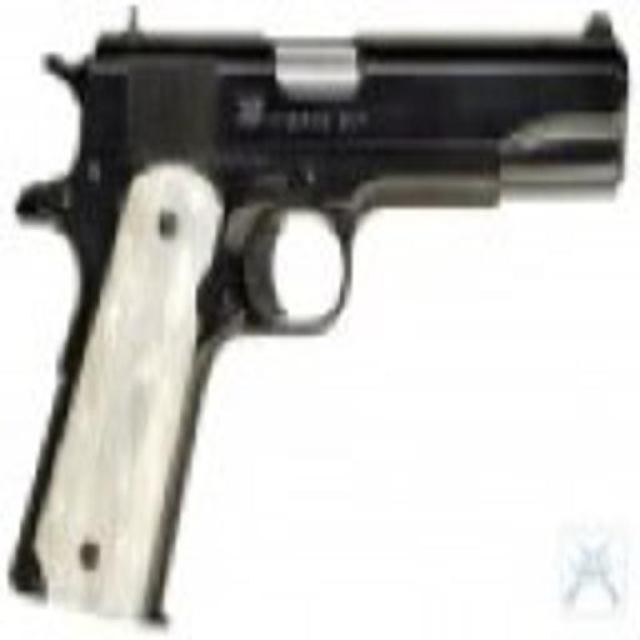pistol: (11, 5, 627, 617)
